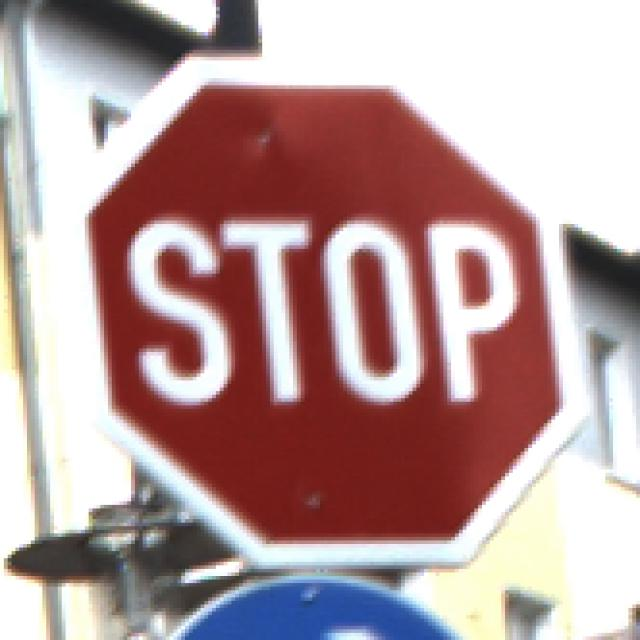STOP: (55, 54, 587, 588)
